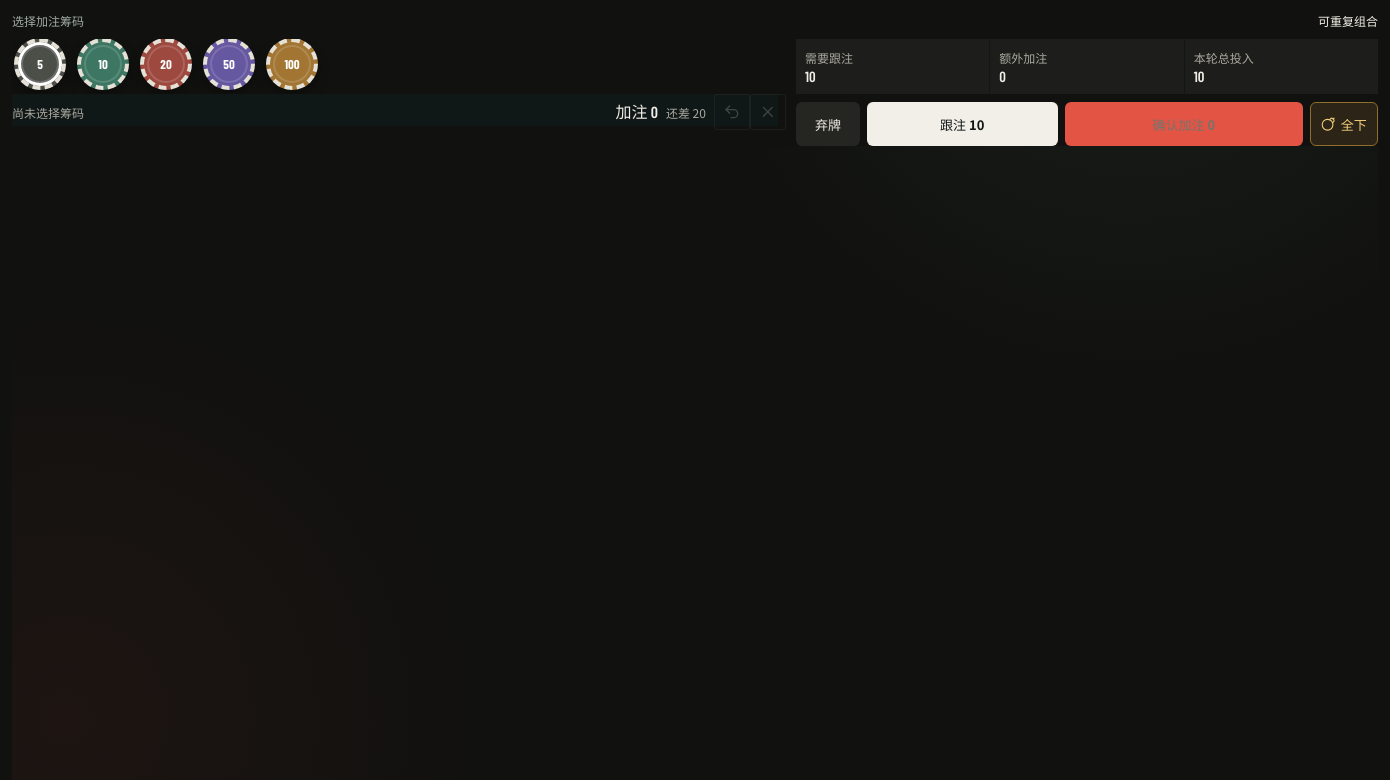
Scenario: ChipComposer › combines repeatable chips and submits the original chip array
Click the button named "增加 20 牌桌分" at {"x": 166, "y": 64}, box [140,38,192,90]
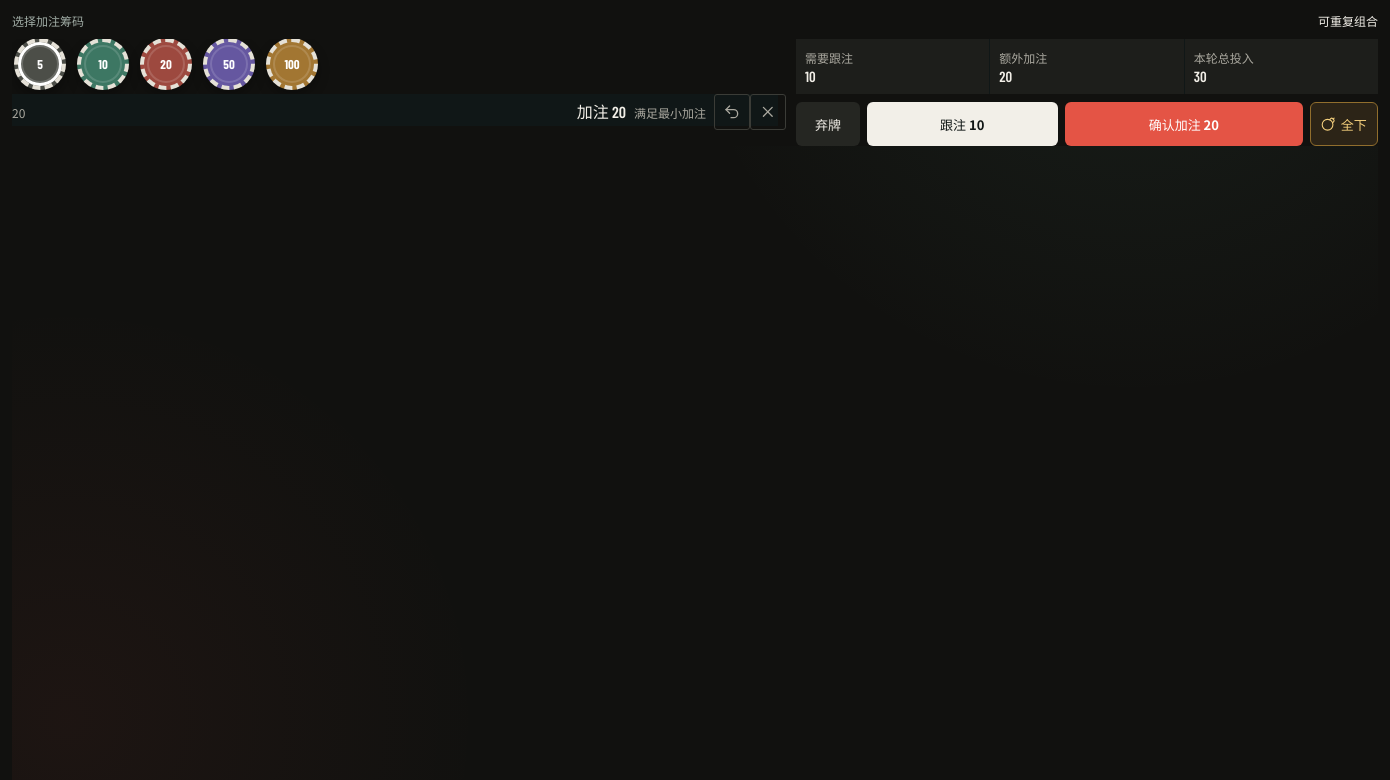
Click the button named "增加 5 牌桌分" at {"x": 40, "y": 64}, box [14,38,66,90]
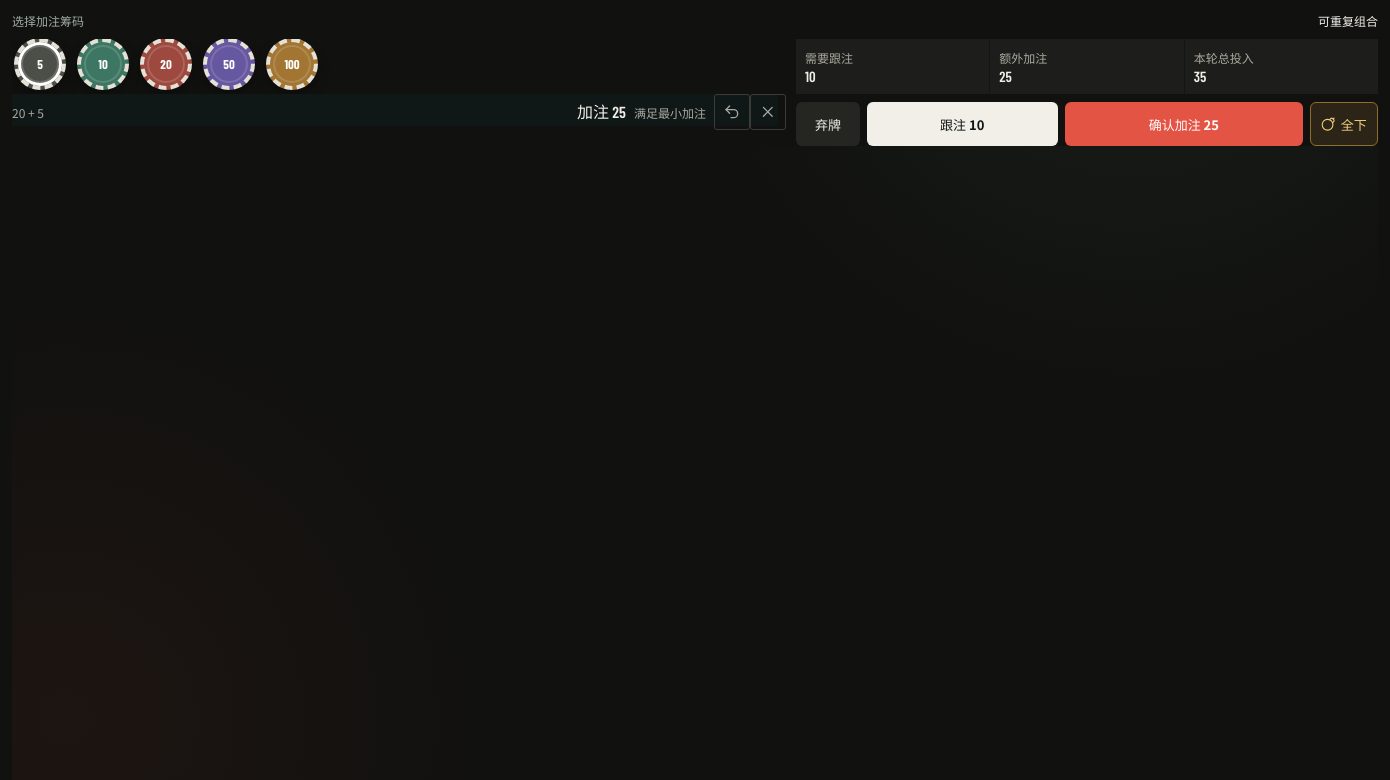
Expected: the text "跟注 10" is shown, [796,39,989,94]
Result: the button with class "raise" is enabled
Result: the text "20 + 5" is shown at [12,104,44,120]
Click the button with class "raise" at {"x": 1184, "y": 124}, box [1065,102,1303,146]
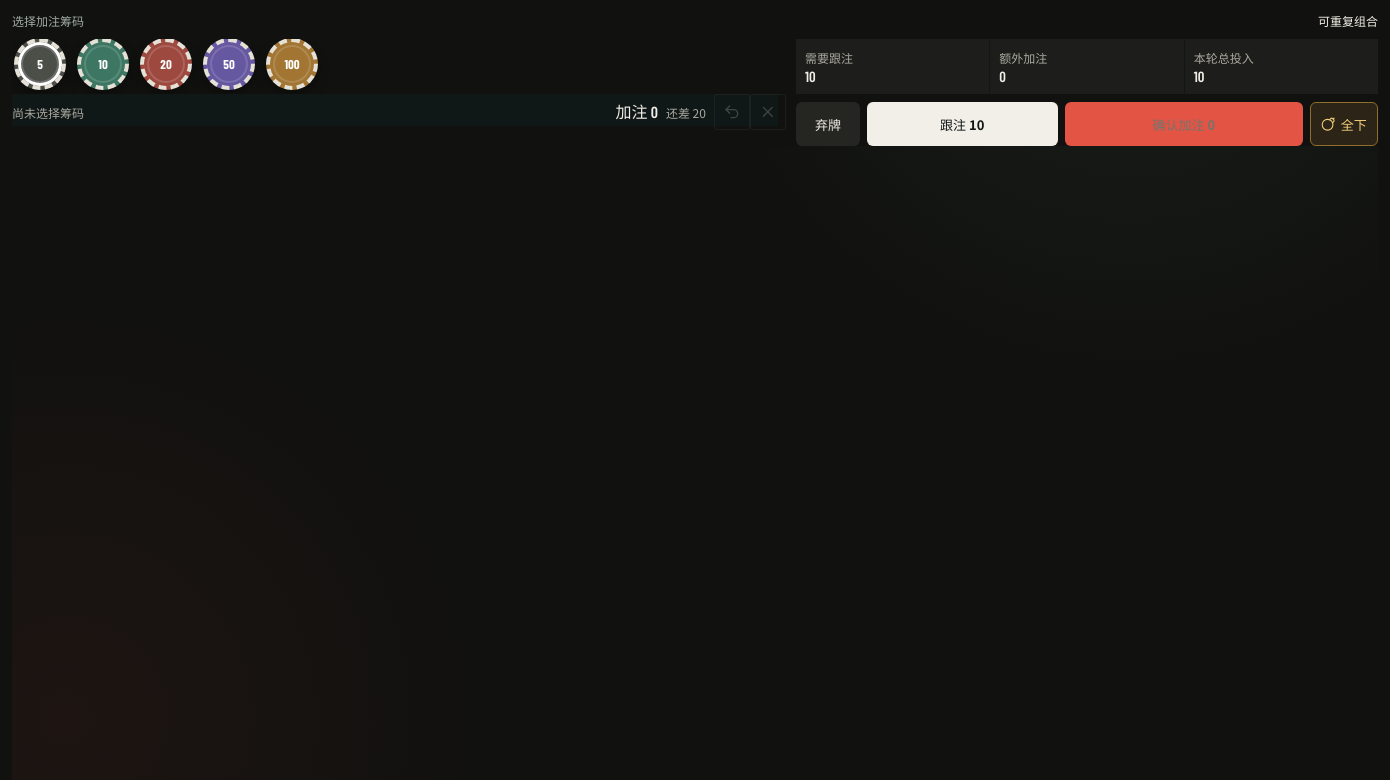
Result: the text "尚未选择筹码" is shown at [12,104,84,120]
